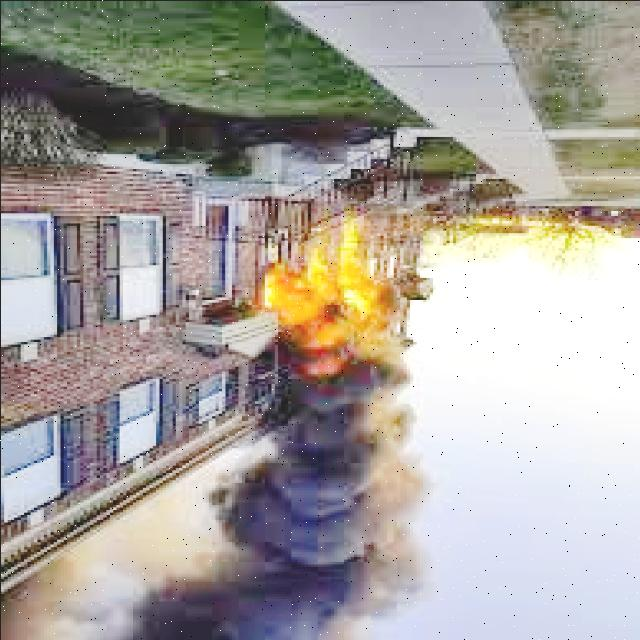api: (235, 204, 430, 380)
